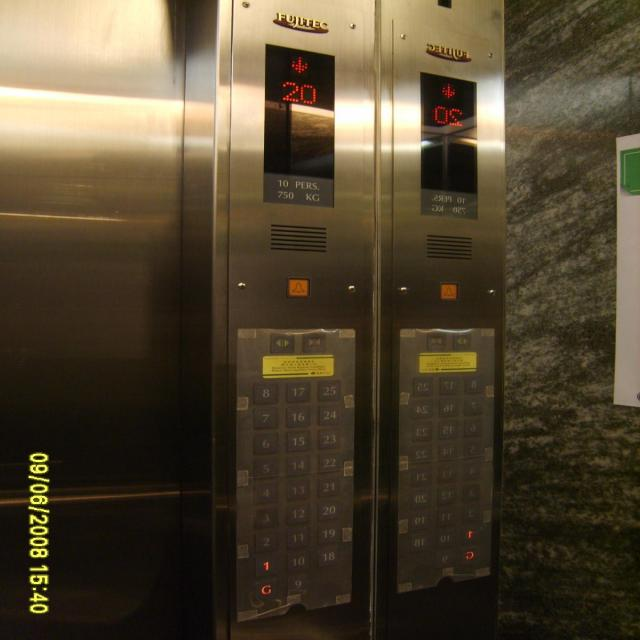1: (252, 554, 279, 576)
10: (284, 550, 311, 573)
11: (284, 526, 311, 549)
12: (285, 501, 312, 524)
13: (284, 477, 312, 500)
14: (283, 453, 311, 476)
15: (284, 429, 311, 453)
16: (283, 404, 310, 428)
17: (284, 379, 311, 404)
18: (315, 544, 343, 567)
19: (315, 522, 343, 545)
2: (252, 530, 279, 553)
20: (314, 498, 342, 522)
21: (315, 474, 342, 498)
22: (314, 451, 342, 474)
23: (315, 427, 342, 451)
24: (315, 403, 343, 427)
25: (315, 378, 343, 402)
3: (252, 506, 279, 528)
4: (252, 481, 280, 504)
5: (252, 456, 280, 480)
6: (252, 430, 279, 454)
7: (251, 406, 279, 430)
8: (251, 381, 279, 405), (462, 374, 484, 394)
9: (283, 572, 310, 596)
G: (252, 578, 280, 600)
alarm: (285, 274, 312, 298), (437, 280, 460, 302)
close: (299, 330, 326, 354), (423, 330, 448, 352)
led: (259, 39, 342, 209), (410, 67, 480, 222)
open: (268, 331, 296, 355), (449, 330, 476, 352)
unknown: (408, 511, 432, 531), (434, 464, 458, 484), (434, 485, 458, 505), (458, 504, 482, 524), (458, 545, 482, 565), (411, 376, 434, 396), (410, 398, 433, 418), (410, 444, 433, 464), (408, 532, 431, 552), (433, 529, 456, 549), (460, 482, 483, 502), (462, 397, 486, 416), (436, 375, 458, 395), (436, 397, 458, 417), (436, 442, 458, 462), (434, 506, 456, 526), (462, 418, 484, 438), (462, 440, 484, 460), (410, 422, 433, 441), (435, 420, 458, 439), (457, 525, 480, 544), (461, 462, 484, 481), (410, 467, 432, 486), (410, 490, 432, 509), (434, 550, 456, 568)
